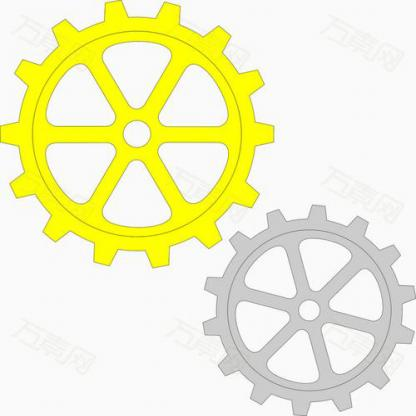FOD: (0, 0, 278, 273), (199, 200, 415, 415)
